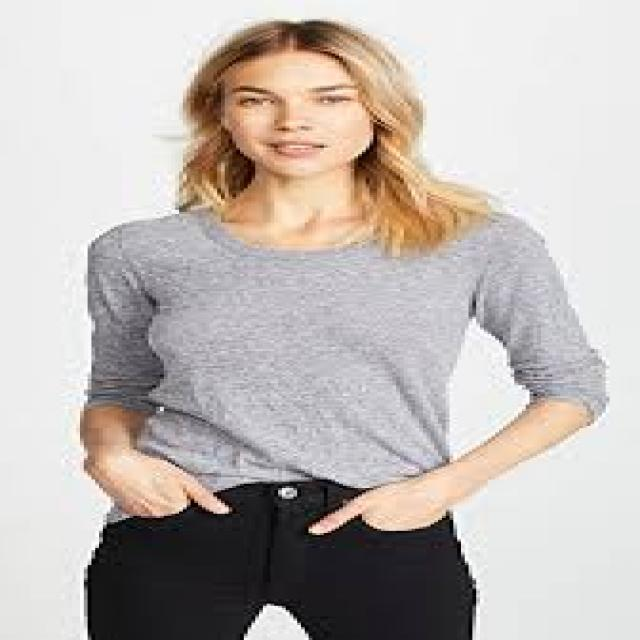plain: (68, 181, 622, 498)
